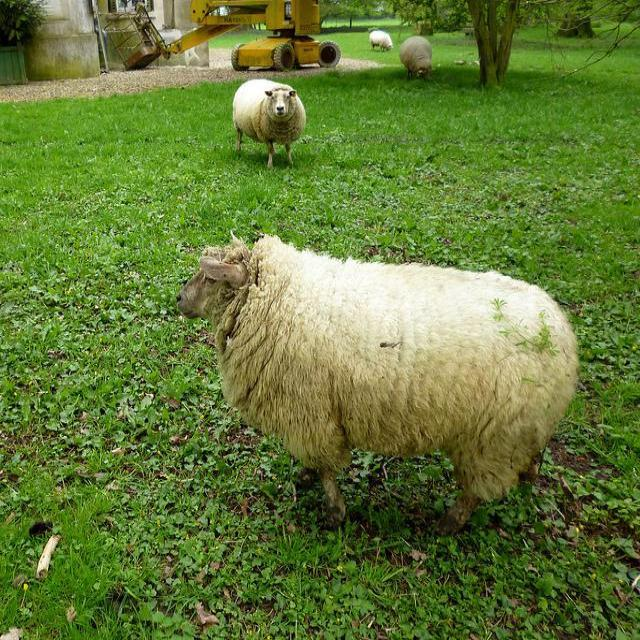Sheep: (176, 229, 578, 537), (234, 78, 307, 170), (399, 38, 436, 80)
